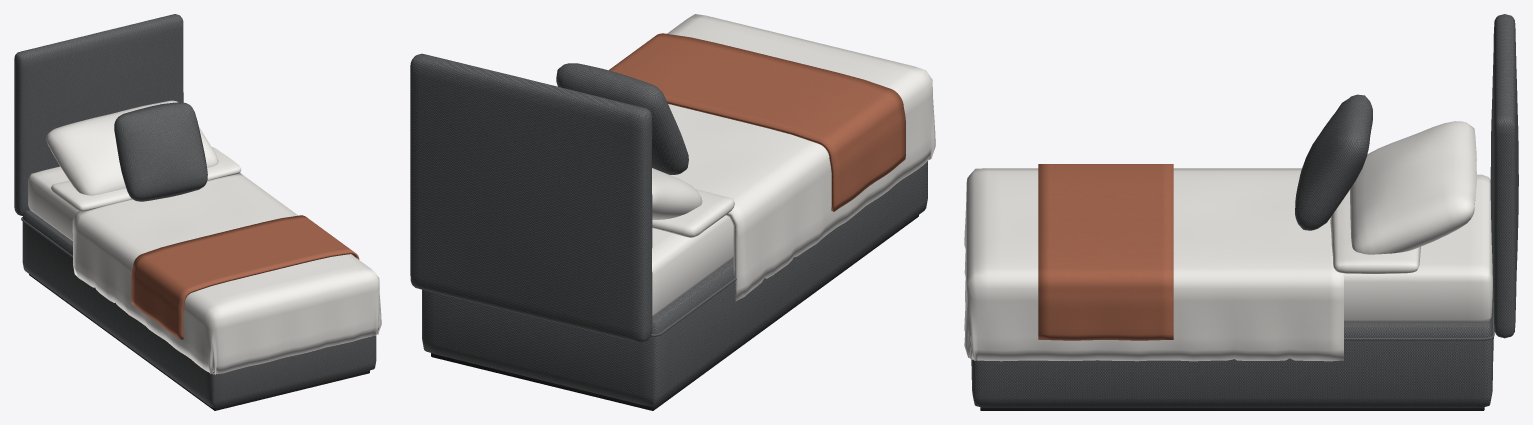
Rendered from canape_90.glb.
The picture shows the model from 3 angles, left to right: view 1: azimuth 30°, elevation 25°; view 2: azimuth 150°, elevation 25°; view 3: azimuth 270°, elevation 25°; orthographic projection. The views are drawn at different scales.
Visible parts, largest first — view 1: canape_90; view 2: canape_90; view 3: canape_90.
Part boxes in pixels (x1=…): canape_90: x1=14, y1=14, x2=381, y2=410; canape_90: x1=410, y1=14, x2=935, y2=410; canape_90: x1=964, y1=14, x2=1518, y2=410.
Size of the model in its own units: 1.05 by 1.21 by 2.05.
4 materials, 3 textured.
